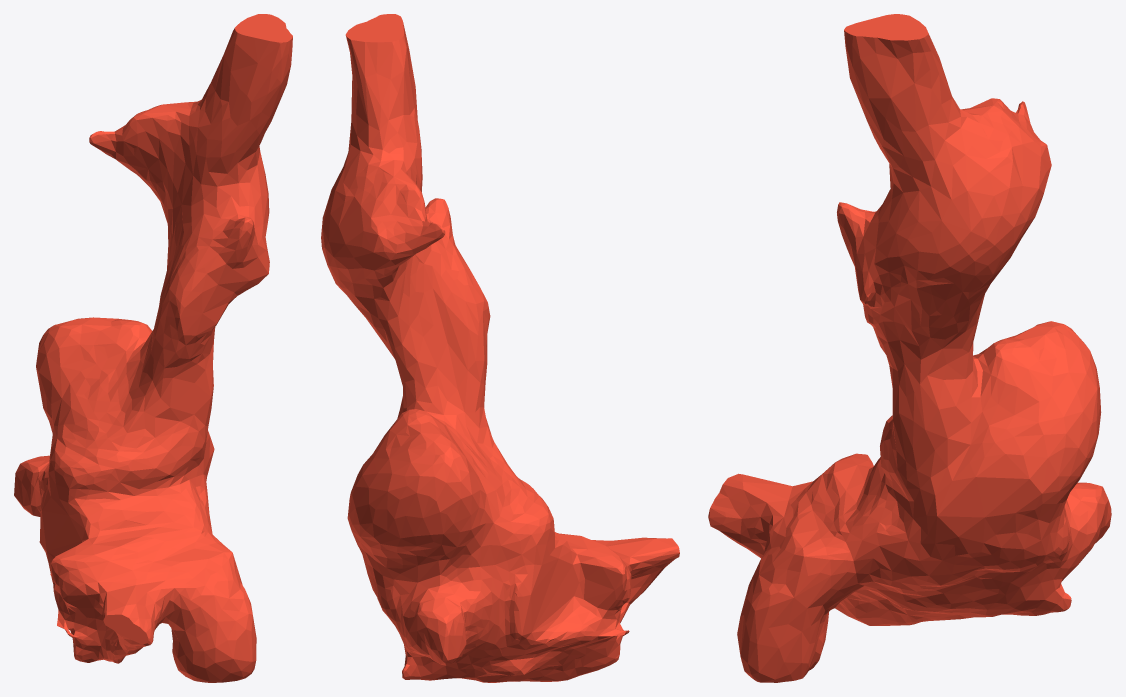
Rendered from right_atrium.glb.
3 renders of one model, left to right at view 1: azimuth 30°, elevation 25°; view 2: azimuth 150°, elevation 25°; view 3: azimuth 270°, elevation 25°, orthographic. The views are drawn at different scales.
Parts seen in each view (by area): view 1: RIGHT ATRIUM; view 2: RIGHT ATRIUM; view 3: RIGHT ATRIUM.
Boxes of the visible parts, left/top/right/bottom form: RIGHT ATRIUM: left=14, top=14, right=292, bottom=682; RIGHT ATRIUM: left=321, top=14, right=679, bottom=682; RIGHT ATRIUM: left=708, top=14, right=1111, bottom=682.
Size of the model in its own units: 68.43 by 156 by 82.3.
